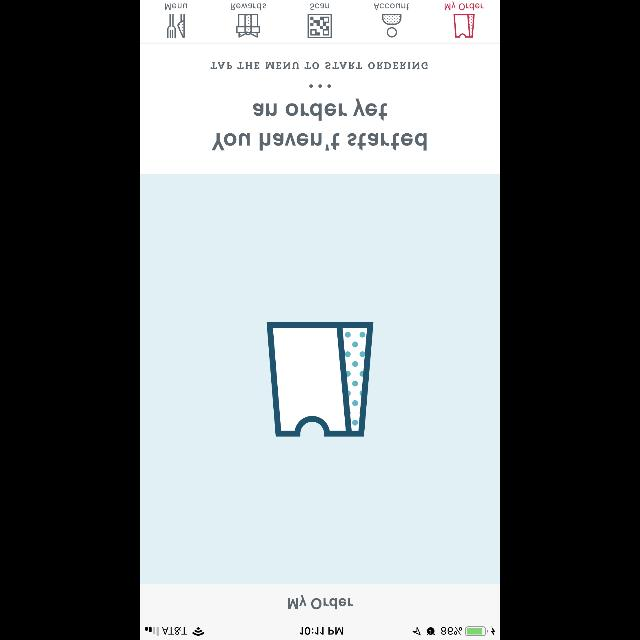icon: (236, 14, 260, 38), (382, 14, 402, 38)
image: (266, 322, 374, 436), (308, 14, 332, 38), (454, 14, 474, 38), (168, 14, 185, 38)
pageindicator: (309, 84, 331, 88)
text: (212, 99, 426, 151), (210, 62, 428, 70), (288, 594, 354, 610), (444, 1, 484, 10), (374, 4, 410, 10), (232, 4, 266, 10), (165, 4, 187, 10), (310, 4, 330, 10)
uppertaskbar: (140, 626, 500, 640)
